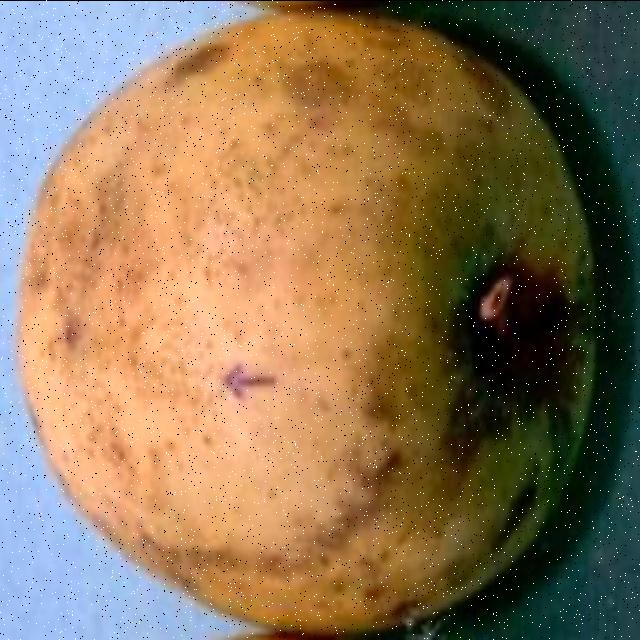BLOTCH: (9, 7, 630, 630)
